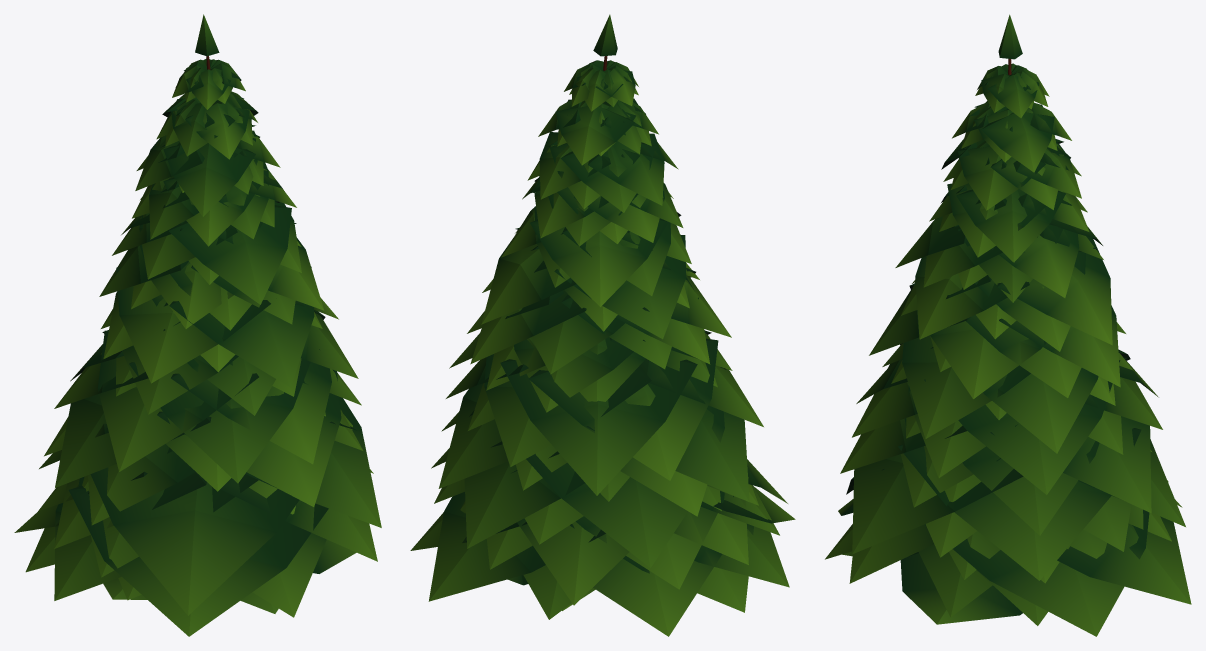
The model's file is western-redcedar-c.glb.
The picture shows the model from 3 angles, left to right: view 1: azimuth 30°, elevation 25°; view 2: azimuth 150°, elevation 25°; view 3: azimuth 270°, elevation 25°; orthographic projection.
Visible parts, largest first — view 1: western-redcedar-c.Leaves; view 2: western-redcedar-c.Leaves; view 3: western-redcedar-c.Leaves.
Part boxes in pixels (bbox=[...]): western-redcedar-c.Leaves: bbox=[14, 14, 381, 636]; western-redcedar-c.Leaves: bbox=[410, 14, 795, 636]; western-redcedar-c.Leaves: bbox=[825, 14, 1191, 636].
Bounding box in the file's own units: 7.57 × 12 × 7.26.
